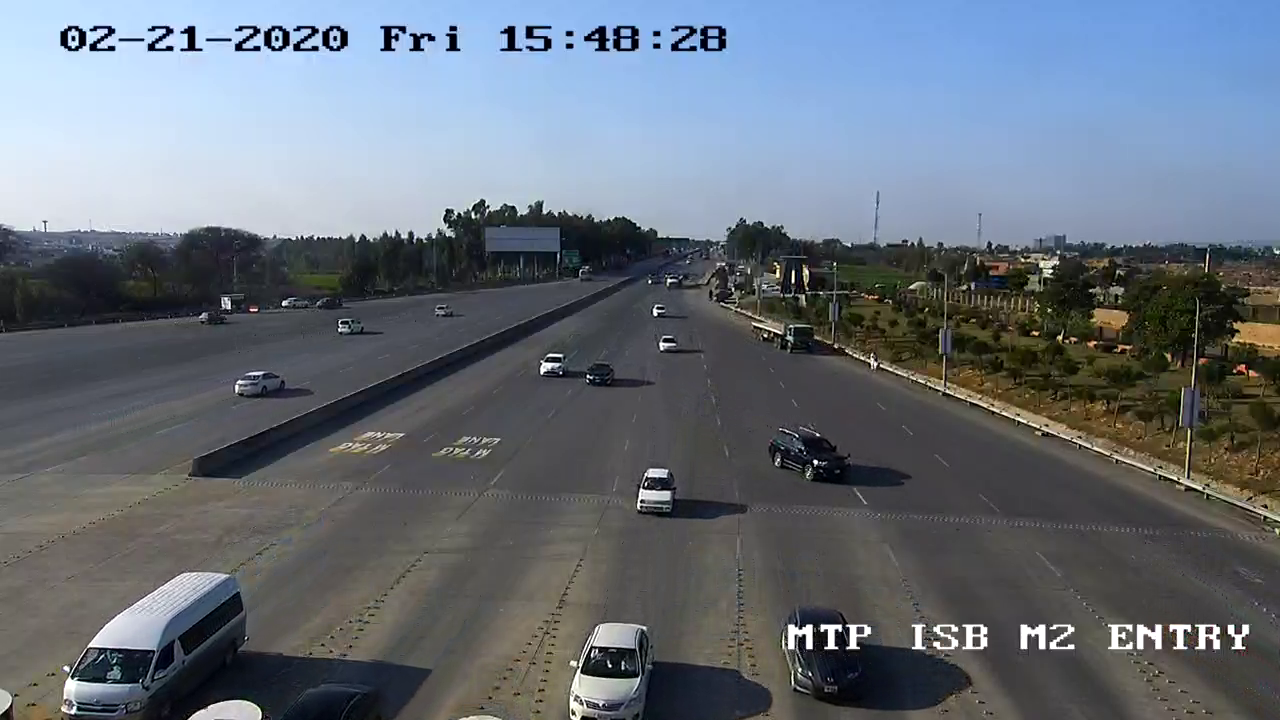f1: (549, 612, 663, 720), (757, 418, 860, 492), (626, 460, 682, 524)
f2: (43, 555, 255, 720)
